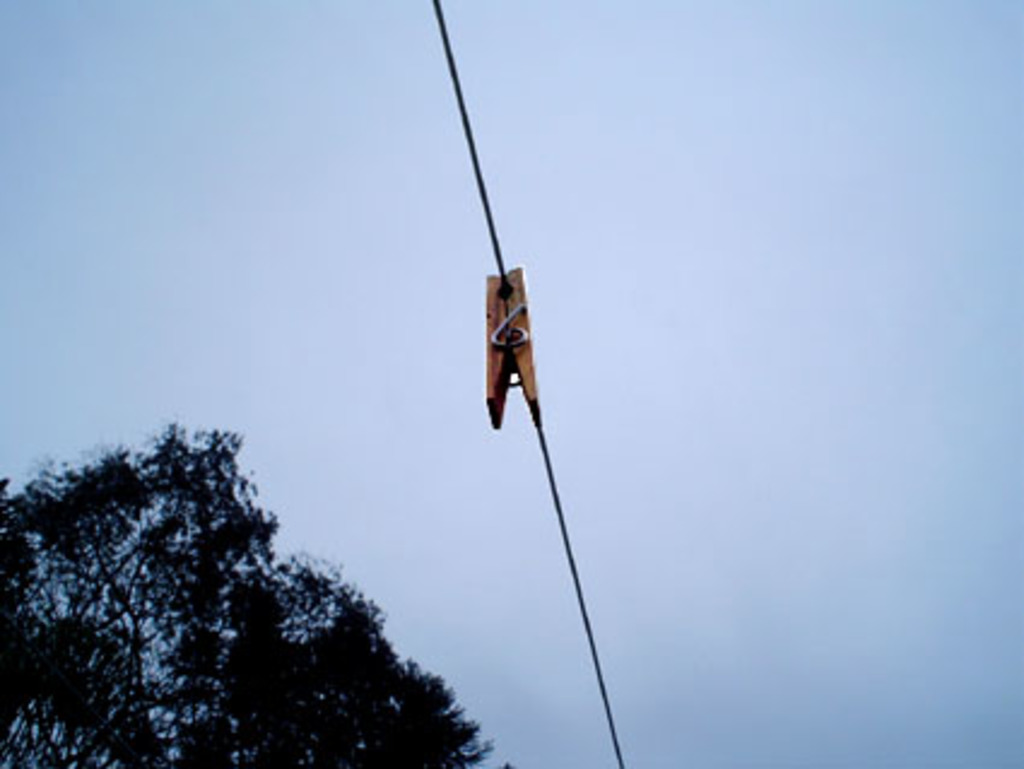Tree: (0, 420, 518, 769)
